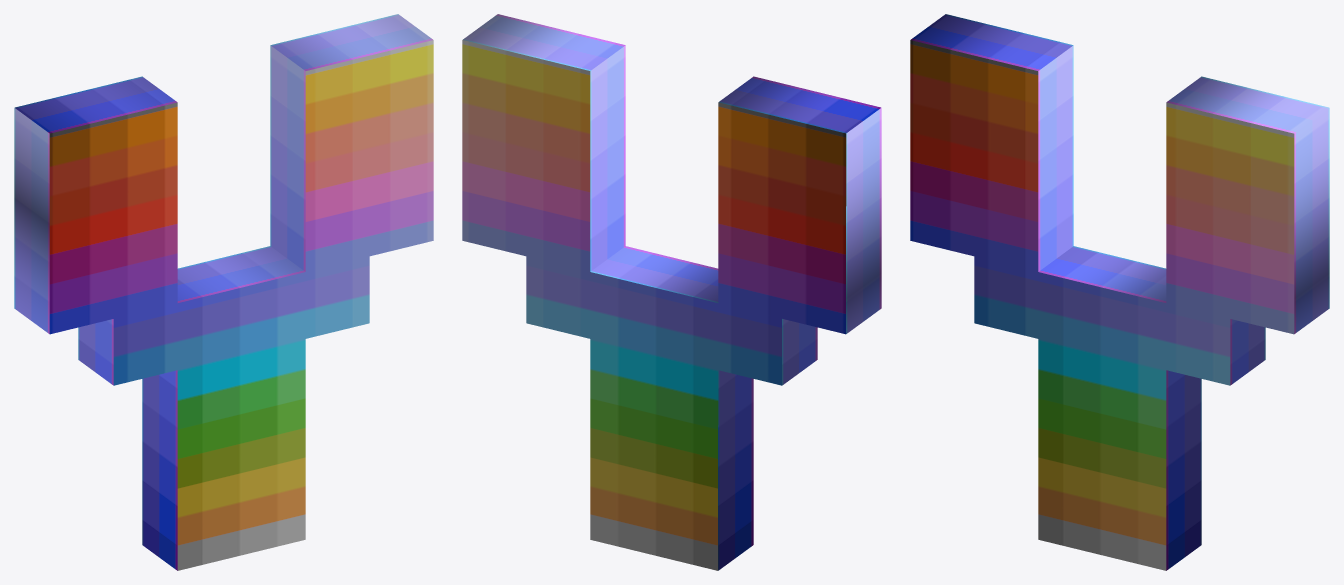
3 renders of one model, left to right at view 1: azimuth 30°, elevation 25°; view 2: azimuth 150°, elevation 25°; view 3: azimuth 330°, elevation 25°, orthographic.
Parts seen in each view (by area): view 1: y; view 2: y; view 3: y.
Boxes of the visible parts, bbox=[...] form: y: bbox=[14, 14, 433, 570]; y: bbox=[462, 14, 881, 570]; y: bbox=[910, 14, 1329, 570].
Bounding box in the file's own units: 0.5 × 0.5834 × 0.0803.
1 material, 1 textured.
